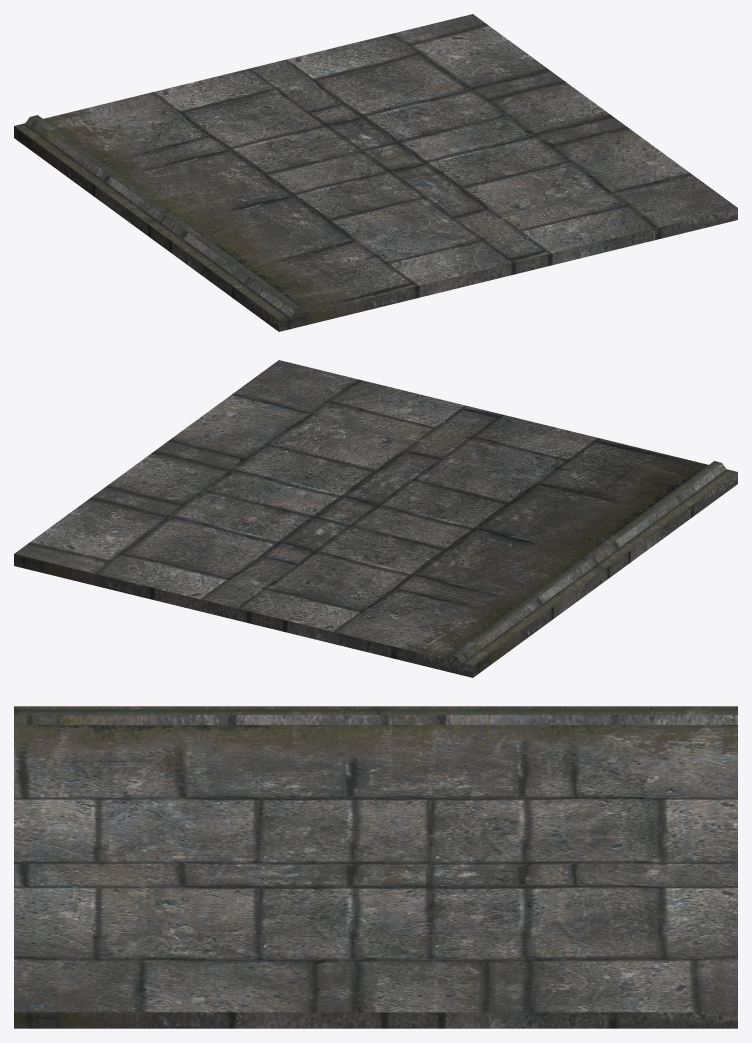
File: floor1transl.fbx
3 renders of one model, top to bottom at view 1: azimuth 30°, elevation 25°; view 2: azimuth 150°, elevation 25°; view 3: azimuth 270°, elevation 25°, orthographic. The views are drawn at different scales.
Parts seen in each view (by area): view 1: Mesh Object; view 2: Mesh Object; view 3: Mesh Object.
Boxes of the visible parts, x1,y1,x2,y2 form: Mesh Object: (14, 14, 737, 331); Mesh Object: (14, 360, 737, 677); Mesh Object: (14, 706, 737, 1028).
Bounding box in the file's own units: 4 × 0.1433 × 4.
